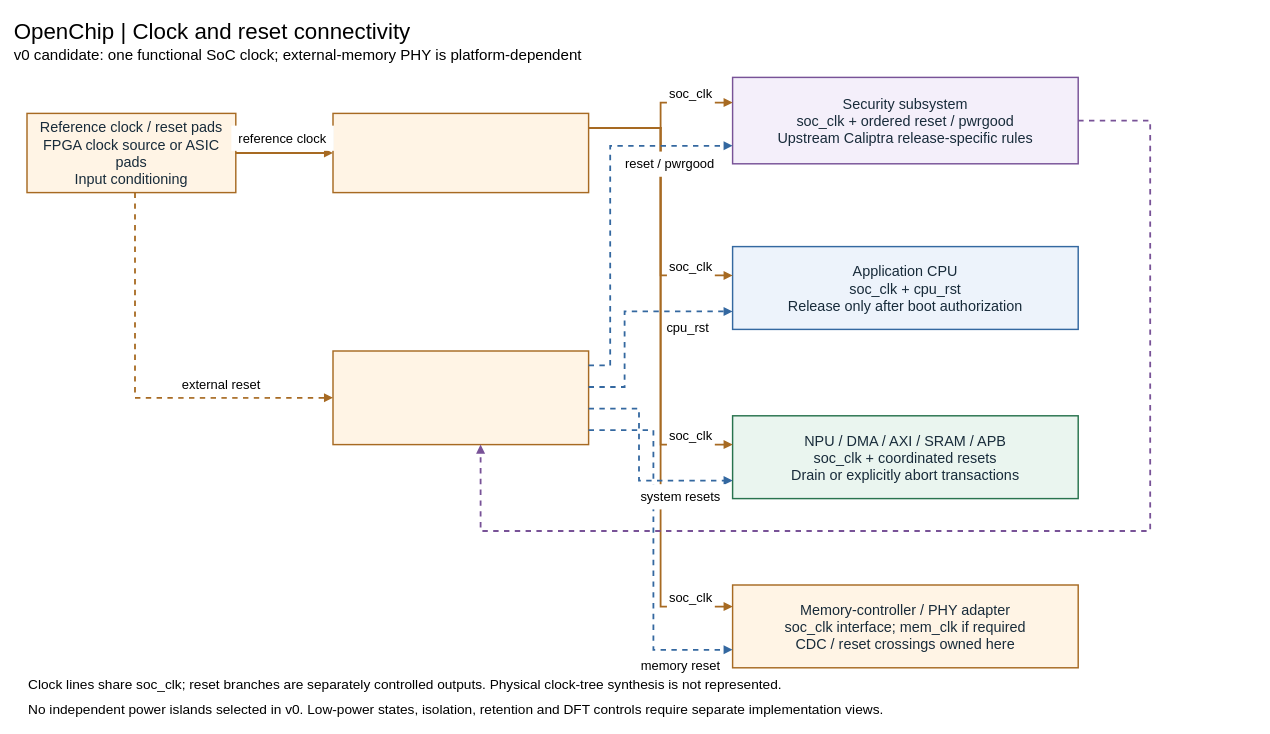
Some shapes in this 1270 by 734 pixel diagram are drawn without their labels. Here are the shapes that lost their labels. From the top down, the centre of each, then its label:
At (x=460, y=152): "Clock platform adapter Generate / select soc_clk PLL choice and frequency TBD".
At (x=460, y=397): "Reset / boot sequencer Condition external reset Coordinate warm / cold resets".
At (x=934, y=546): "boot authorization / escalation".
